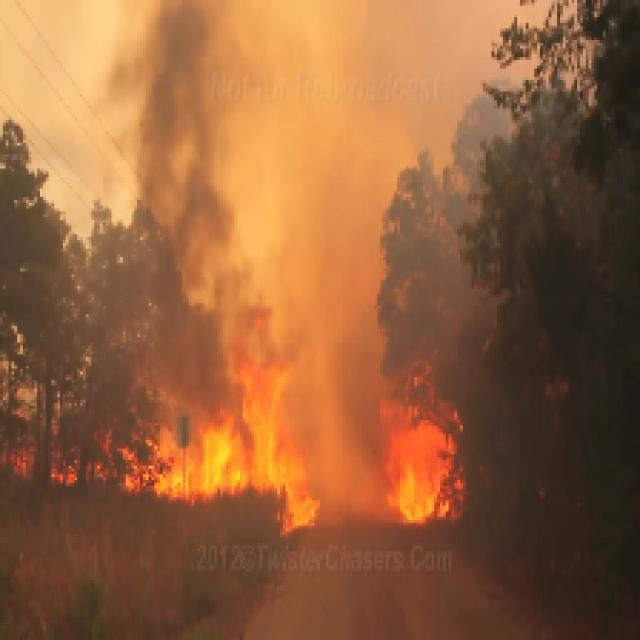Fire: (166, 328, 477, 532)
Smoke: (132, 28, 366, 286)
